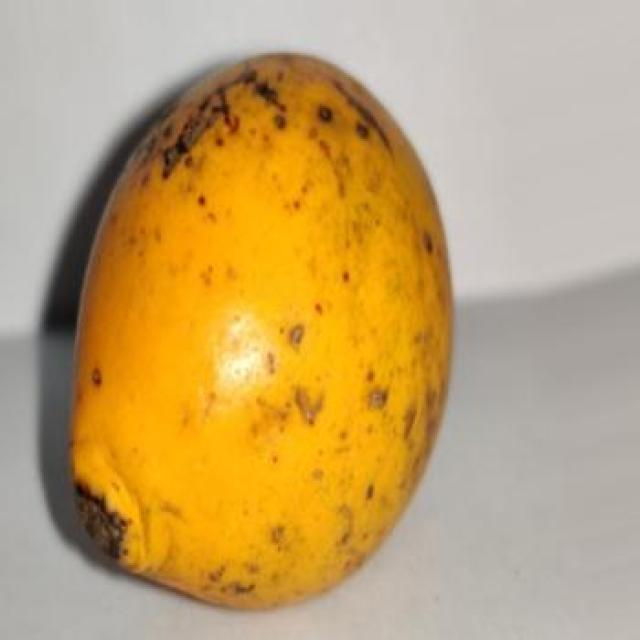good: (60, 53, 455, 614)
